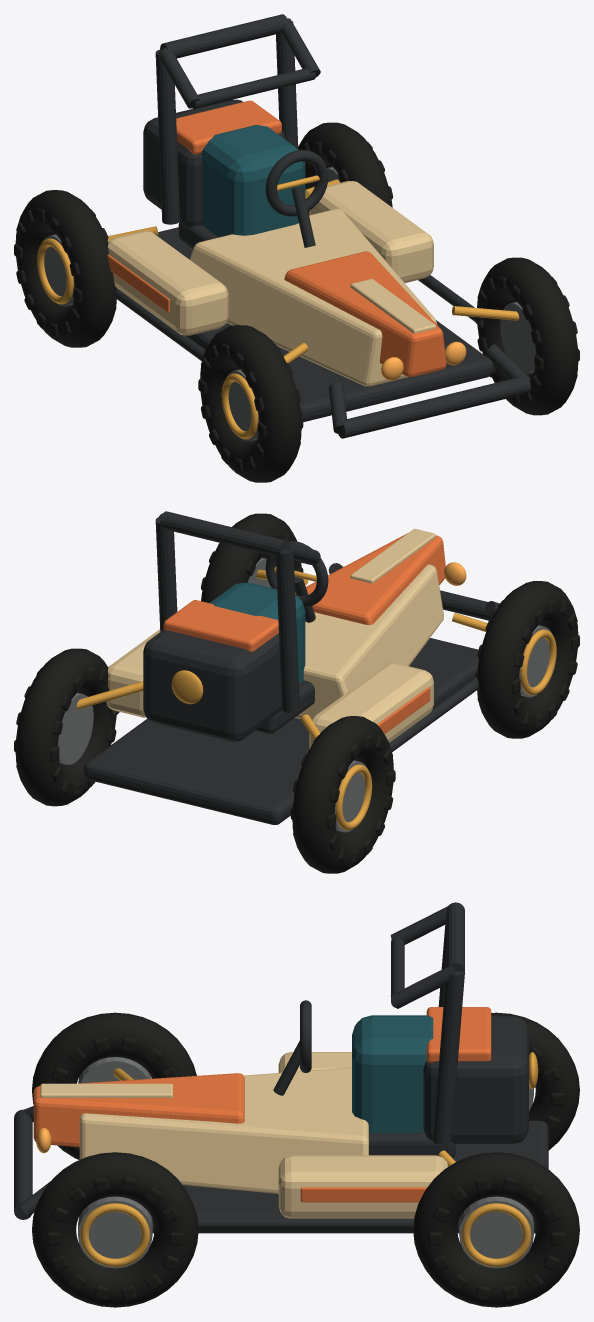
The model's file is KART-01_LOD0.glb.
The picture shows the model from 3 angles, top to bottom: view 1: azimuth 30°, elevation 25°; view 2: azimuth 150°, elevation 25°; view 3: azimuth 270°, elevation 25°; orthographic projection. The views are drawn at different scales.
Parts seen in each view (by area): view 1: KART01_body_main, KART01_L_F_tire, KART01_L_R_tire, KART01_seat, KART01_R_F_tire, KART01_body_nose, KART01_sidepod_L, KART01_floor_plate, KART01_sidepod_R, KART01_rear_engine, KART01_front_bumper, KART01_R_R_tire (+21 smaller); view 2: KART01_floor_plate, KART01_rear_engine, KART01_body_main, KART01_L_R_tire, KART01_L_F_tire, KART01_R_R_tire, KART01_body_nose, KART01_sidepod_L, KART01_engine_cover, KART01_R_F_tire, KART01_roll_post_-1, KART01_seat (+17 smaller); view 3: KART01_body_main, KART01_R_F_tire, KART01_R_R_tire, KART01_rear_engine, KART01_seat, KART01_sidepod_R, KART01_body_nose, KART01_L_F_tire, KART01_floor_plate, KART01_L_R_tire, KART01_roll_post_1, KART01_R_F_hub (+17 smaller).
Part boxes in pixels (box(x1,y1,x2,y2)): KART01_body_main: box(189, 208, 437, 386); KART01_L_F_tire: box(200, 325, 301, 482); KART01_L_R_tire: box(15, 190, 116, 347); KART01_seat: box(201, 125, 305, 237); KART01_R_F_tire: box(477, 257, 578, 415); KART01_body_nose: box(284, 251, 446, 377); KART01_sidepod_L: box(108, 231, 228, 335); KART01_floor_plate: box(157, 227, 493, 421); KART01_sidepod_R: box(309, 181, 433, 282); KART01_rear_engine: box(143, 99, 285, 227); KART01_front_bumper: box(338, 376, 530, 438); KART01_R_R_tire: box(298, 122, 392, 214); KART01_floor_plate: box(84, 638, 478, 824); KART01_rear_engine: box(143, 630, 282, 741); KART01_body_main: box(295, 564, 443, 719); KART01_L_R_tire: box(292, 716, 393, 873); KART01_L_F_tire: box(477, 581, 578, 738); KART01_R_R_tire: box(15, 648, 116, 806); KART01_body_nose: box(295, 533, 445, 624); KART01_sidepod_L: box(309, 663, 433, 748); KART01_engine_cover: box(163, 600, 278, 651); KART01_R_F_tire: box(201, 513, 301, 602); KART01_roll_post_-1: box(275, 548, 299, 712); KART01_seat: box(210, 582, 305, 683); KART01_body_main: box(79, 1067, 368, 1193); KART01_R_F_tire: box(32, 1152, 198, 1307); KART01_R_R_tire: box(413, 1152, 579, 1307); KART01_rear_engine: box(423, 1016, 528, 1143); KART01_seat: box(352, 1015, 433, 1132); KART01_sidepod_R: box(278, 1155, 448, 1218); KART01_body_nose: box(33, 1073, 244, 1147); KART01_L_F_tire: box(32, 1012, 196, 1159); KART01_floor_plate: box(151, 1120, 548, 1233); KART01_L_R_tire: box(491, 1012, 579, 1150); KART01_roll_post_1: box(432, 971, 464, 1144); KART01_R_F_hub: box(78, 1196, 152, 1268).
Bounding box in the file's own units: 2.23 × 1.96 × 3.32.
